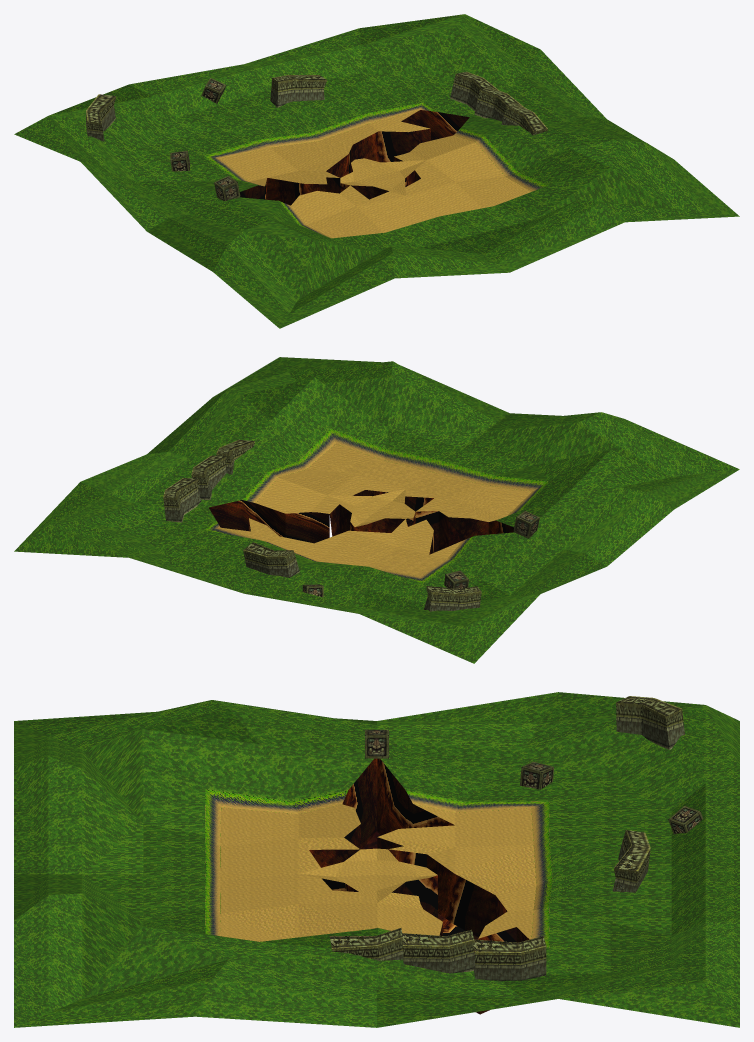
The model's file is jungle.glb.
3 renders of one model, top to bottom at view 1: azimuth 30°, elevation 25°; view 2: azimuth 150°, elevation 25°; view 3: azimuth 270°, elevation 25°, orthographic. The views are drawn at different scales.
Parts seen in each view (by area): view 1: level, barrier, barrier.001, barrier.003, barrier.004, barrier.002; view 2: level, barrier, barrier.001, barrier.004, barrier.003, barrier.002, statue; view 3: level, barrier.004, barrier.001, barrier.003, barrier, barrier.002, statue.001, statue, statue.002.
Part boxes in pixels (x1,y1,x2,y2): level: (14,14,739,328); barrier: (270,75,327,107); barrier.001: (86,94,116,141); barrier.003: (474,87,523,121); barrier.004: (450,71,498,110); barrier.002: (501,104,547,135); level: (14,357,739,663); barrier: (243,542,299,577); barrier.001: (424,586,481,611); barrier.004: (163,478,201,522); barrier.003: (191,455,226,499); barrier.002: (216,439,254,474); statue: (513,510,539,538); level: (14,692,739,1027); barrier.004: (473,936,546,980); barrier.001: (616,696,684,749); barrier.003: (402,929,474,973); barrier: (612,830,650,892); barrier.002: (329,928,403,960); statue.001: (520,761,554,789); statue: (365,729,388,758); statue.002: (668,806,703,833).
Size of what is drawn, in the model's own units: 60.58 by 12.49 by 60.46.
7 materials, 7 textured.
